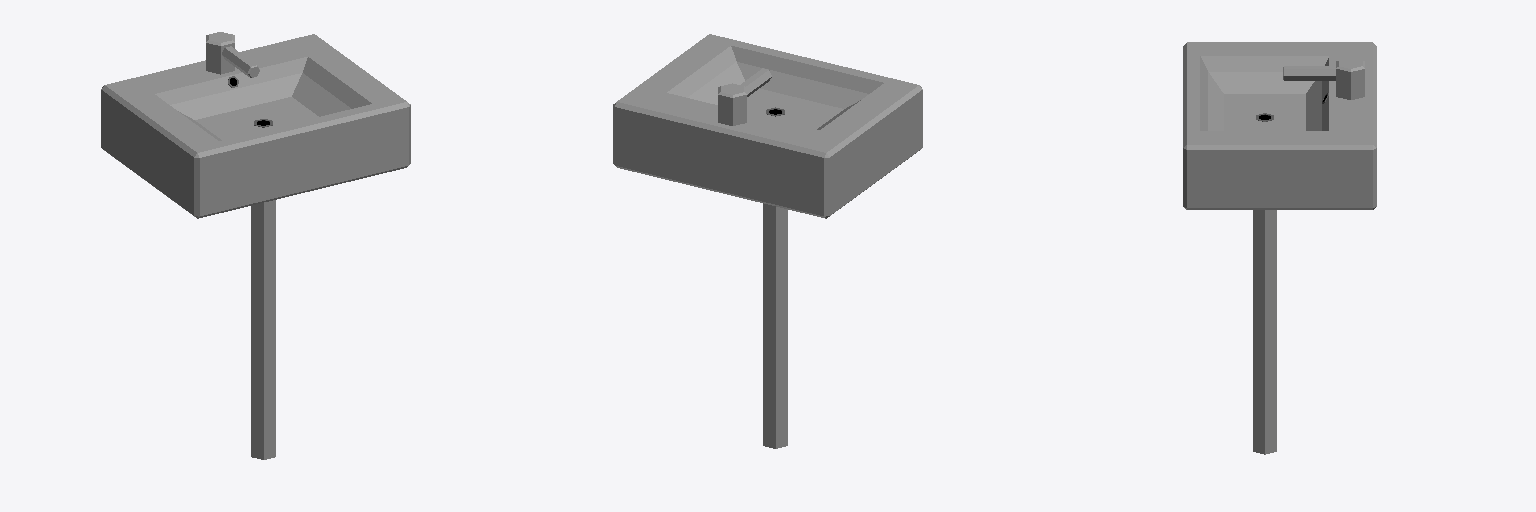
The model's file is bathroomsink.obj.
The picture shows the model from 3 angles: view 1: azimuth 30°, elevation 25°; view 2: azimuth 150°, elevation 25°; view 3: azimuth 270°, elevation 25°; orthographic projection.
Parts seen in each view (by area): view 1: Cube; view 2: Cube; view 3: Cube.
Boxes of the visible parts, box(x1,y1,x2,y2) form: Cube: box(101, 32, 410, 459); Cube: box(613, 34, 922, 448); Cube: box(1183, 42, 1376, 454).
Size of the model in its own units: 0.62 by 1.05 by 0.48.